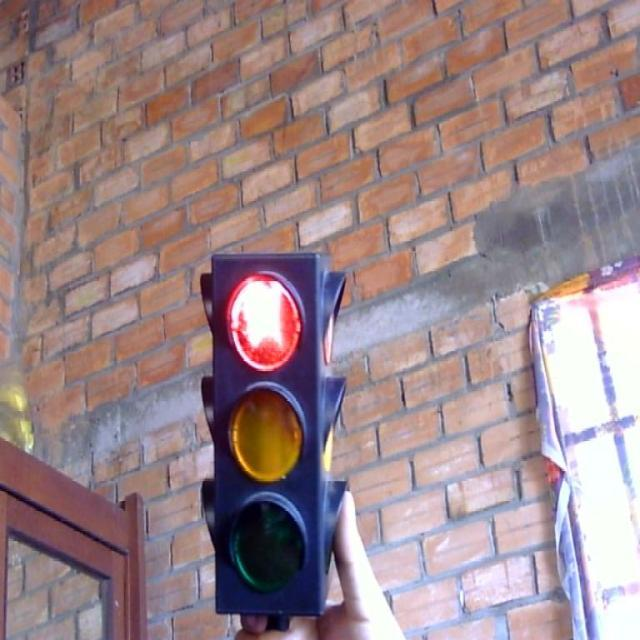red light: (218, 265, 320, 378)
